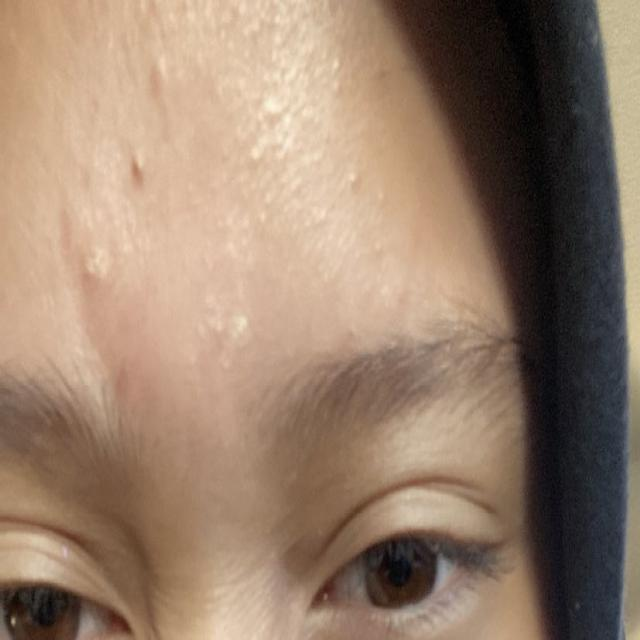fungal: (98, 18, 395, 382)
